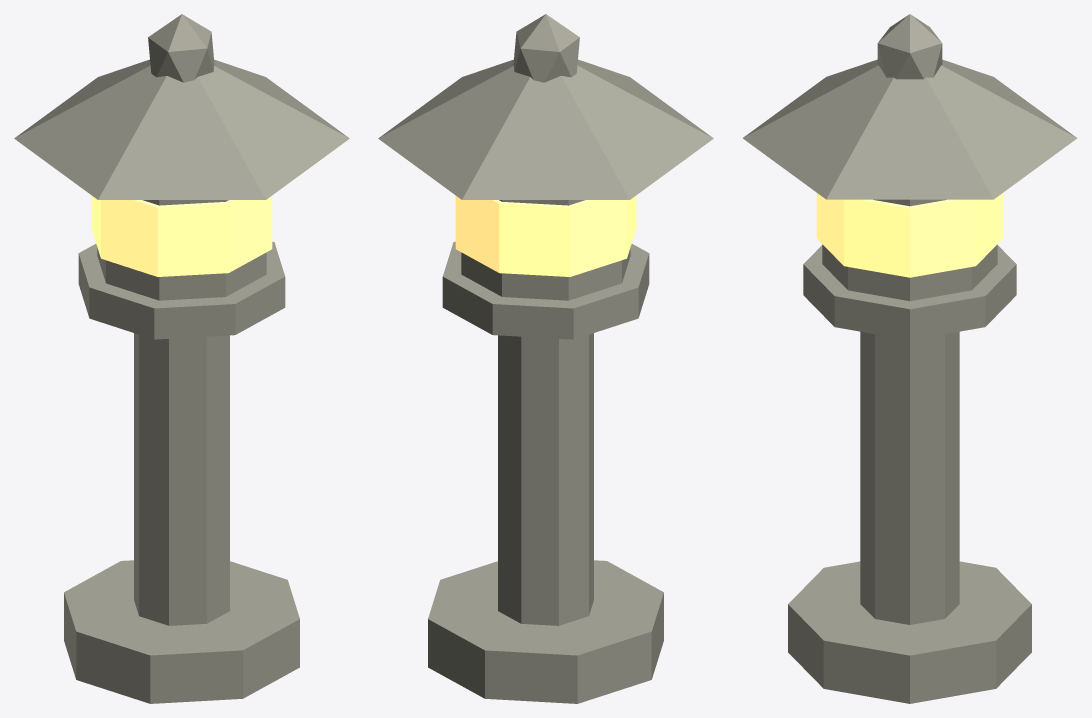
Rendered from StoneLantern.glb.
3 views of the same model, side by side, from view 1: azimuth 30°, elevation 25°; view 2: azimuth 150°, elevation 25°; view 3: azimuth 270°, elevation 25° (orthographic).
Parts seen in each view (by area): view 1: Kasa, Pillar, Base, FireGlow, Platform, Firebox, HoJu; view 2: Kasa, Pillar, Base, FireGlow, Platform, Firebox, HoJu; view 3: Kasa, Pillar, Base, FireGlow, Platform, Firebox, HoJu.
Part boxes in pixels (<box>): Kasa: <box>14,59,349,199</box>; Pillar: <box>134,333,229,625</box>; Base: <box>64,560,299,703</box>; FireGlow: <box>91,196,272,276</box>; Platform: <box>78,241,285,339</box>; Firebox: <box>97,200,266,300</box>; HoJu: <box>148,14,214,82</box>; Kasa: <box>378,59,713,199</box>; Pillar: <box>498,333,593,625</box>; Base: <box>428,560,663,703</box>; FireGlow: <box>455,196,636,276</box>; Platform: <box>442,241,649,339</box>; Firebox: <box>461,200,630,300</box>; HoJu: <box>513,14,579,82</box>; Kasa: <box>742,59,1077,199</box>; Pillar: <box>860,331,959,624</box>; Base: <box>788,561,1031,703</box>; FireGlow: <box>816,193,1003,277</box>; Platform: <box>803,245,1016,340</box>; Firebox: <box>822,199,997,300</box>; HoJu: <box>877,14,942,79</box>.
Bounding box in the file's own units: 0.7621 × 1.85 × 0.88.
